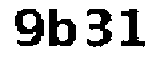1: (116, 6, 147, 54)
3: (84, 5, 112, 52)
9: (9, 3, 43, 50)
b: (46, 2, 78, 50)
